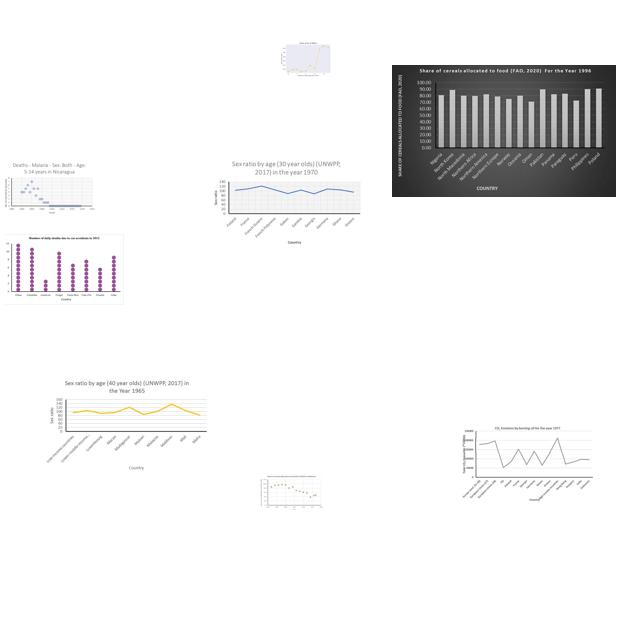Graph: (392, 65, 616, 197), (44, 376, 210, 471), (210, 158, 363, 247), (462, 425, 593, 502), (5, 234, 124, 305), (3, 161, 96, 215), (259, 474, 324, 512), (279, 37, 336, 80)
